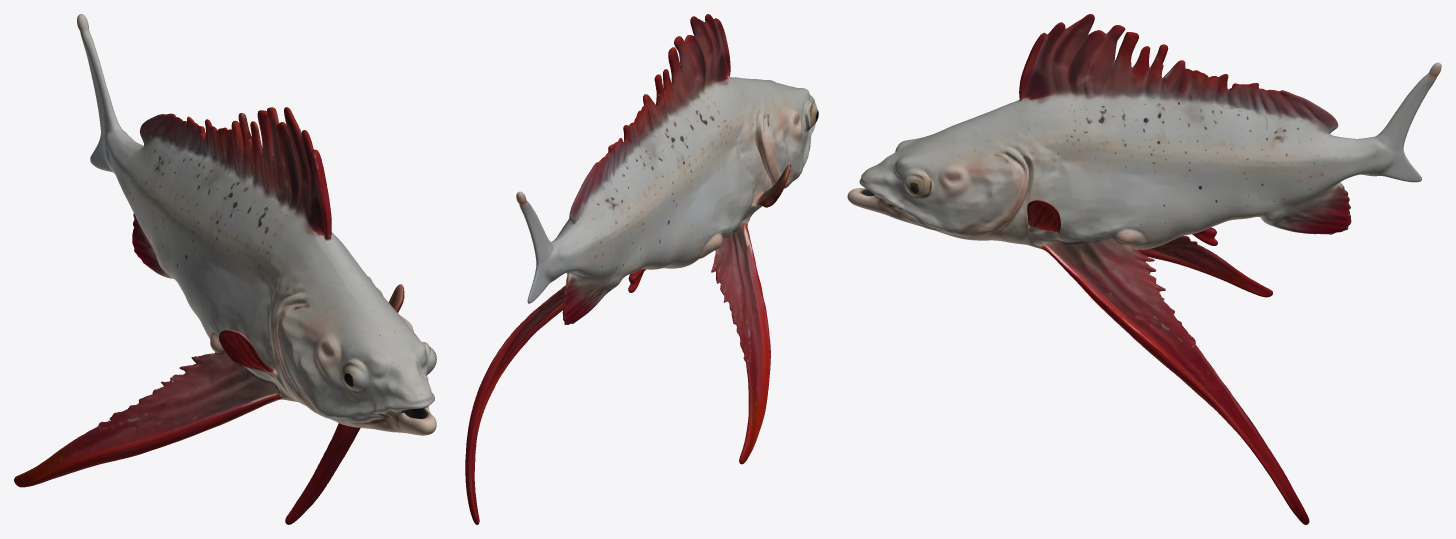
Rendered from oarfish_r3.glb.
The picture shows the model from 3 angles, left to right: view 1: azimuth 30°, elevation 25°; view 2: azimuth 150°, elevation 25°; view 3: azimuth 270°, elevation 25°; orthographic projection. The views are drawn at different scales.
Parts seen in each view (by area): view 1: tripo_node_e5986ba8-88fe-4003-a769-3150de5608de; view 2: tripo_node_e5986ba8-88fe-4003-a769-3150de5608de; view 3: tripo_node_e5986ba8-88fe-4003-a769-3150de5608de.
Part boxes in pixels (bbox=[...]): tripo_node_e5986ba8-88fe-4003-a769-3150de5608de: bbox=[14, 14, 436, 524]; tripo_node_e5986ba8-88fe-4003-a769-3150de5608de: bbox=[465, 14, 818, 524]; tripo_node_e5986ba8-88fe-4003-a769-3150de5608de: bbox=[847, 14, 1441, 524].
Size of the model in its own units: 0.5453 by 0.8495 by 1.
Materials: 1 (1 with a texture image).
